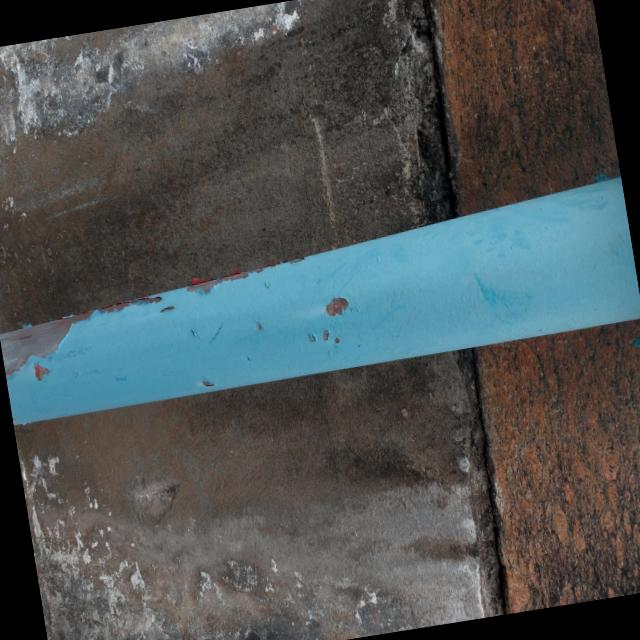gas: (0, 165, 640, 436)
